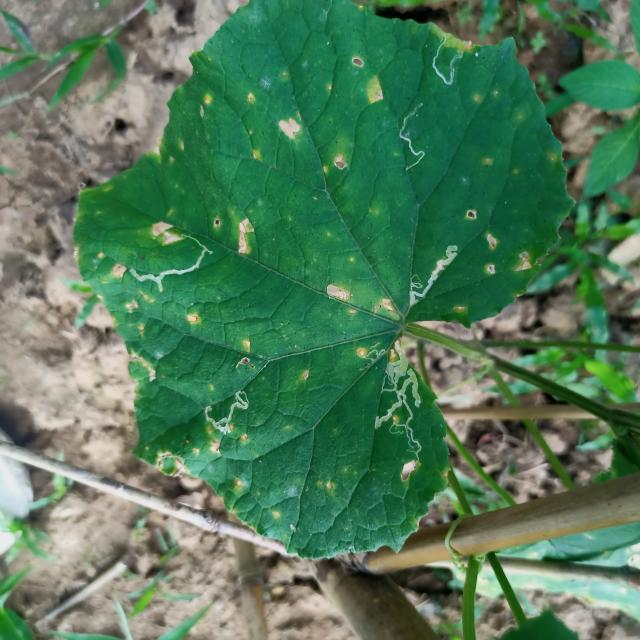disease_cucumber: (463, 203, 534, 277), (110, 290, 160, 382), (154, 430, 223, 480), (346, 50, 385, 106), (211, 210, 258, 254), (150, 206, 185, 249), (87, 248, 124, 286), (322, 277, 358, 314), (370, 293, 400, 321), (320, 149, 348, 177), (276, 112, 302, 142), (234, 338, 256, 368), (195, 91, 215, 120), (317, 476, 336, 496), (446, 299, 467, 315), (186, 309, 200, 325), (353, 343, 367, 358), (270, 506, 284, 521), (482, 155, 492, 166), (386, 348, 397, 358)
